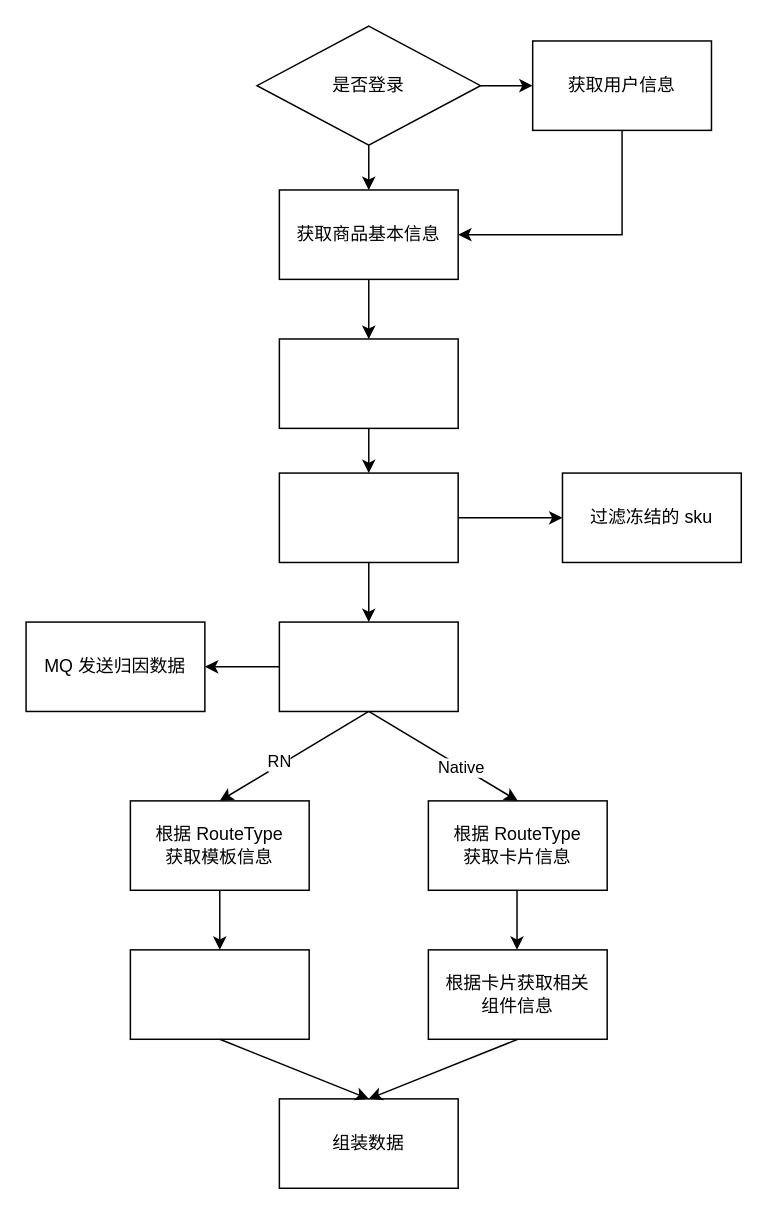
This 767x1214 diagram has some shape labels left out. The box of each missing label's shape, as (x1, y1, x2, y2) in pixels:
根据模板获取相关 组件信息: (129, 948, 309, 1039)
获取 item id 下 其他 sku 信息: (278, 472, 458, 562)
获取商铺信息: (278, 337, 458, 428)
获取所有商品的 详细信息: (278, 621, 458, 711)
